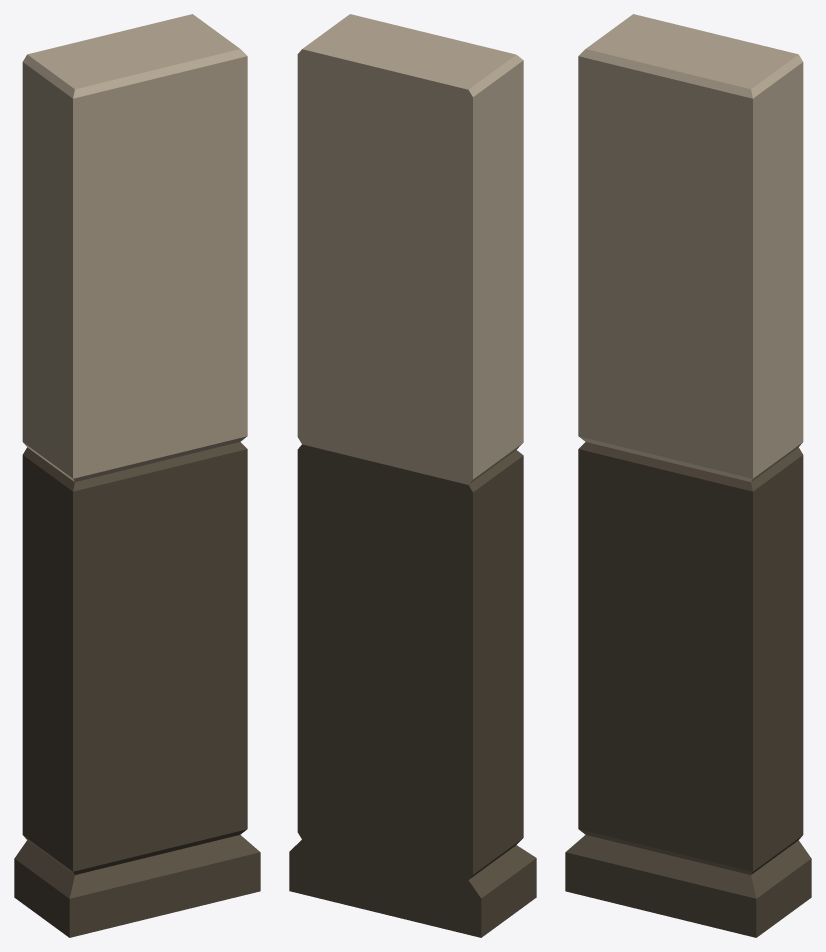
Rendered from Pillar_Exterior_Floor_03.glb.
The picture shows the model from 3 angles, left to right: view 1: azimuth 30°, elevation 25°; view 2: azimuth 150°, elevation 25°; view 3: azimuth 330°, elevation 25°; orthographic projection.
Visible parts, largest first — view 1: SM_Env_Pillar_Exterior_Floor_03; view 2: SM_Env_Pillar_Exterior_Floor_03; view 3: SM_Env_Pillar_Exterior_Floor_03.
Boxes of the visible parts, <box> form: SM_Env_Pillar_Exterior_Floor_03: <box>14,14,260,937</box>; SM_Env_Pillar_Exterior_Floor_03: <box>289,14,536,937</box>; SM_Env_Pillar_Exterior_Floor_03: <box>565,14,811,937</box>.
Bounding box in the file's own units: 0.7137 × 3 × 0.3568.
1 material, 1 textured.
